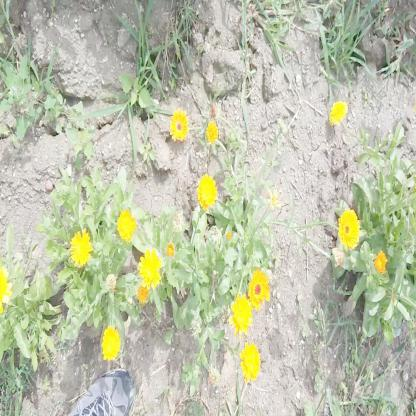marigold: (138, 247, 162, 290), (240, 340, 262, 381), (69, 229, 92, 268), (248, 270, 270, 309), (340, 210, 360, 250), (167, 105, 188, 140), (196, 172, 216, 208), (115, 209, 136, 243), (231, 297, 252, 330), (101, 326, 119, 361), (328, 97, 348, 127), (135, 274, 151, 303), (205, 119, 219, 146)
